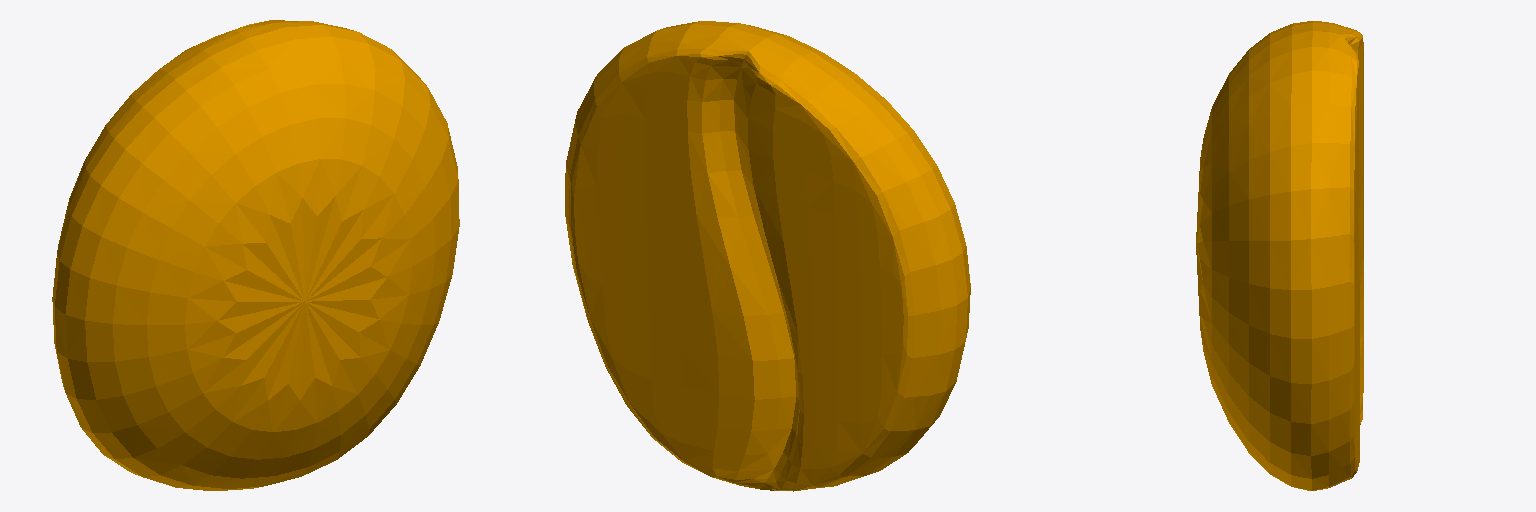
robot.urdf — bean:
<robot name="bean">
    <link name="base1">
        <visual>
            <origin rpy="0 0 0" xyz="0 0 0"/>
            <geometry>
                <mesh filename="bean.dae" scale="50.0 50.0 50.0"/>
            </geometry>
        </visual>
        <collision>
            <origin rpy="0 0 0" xyz="0 0 0"/>
            <geometry>
                <sphere radius="0.05"/>
            </geometry>
        </collision>
        <!-- <collision>
            <origin rpy="0 0 0" xyz="0 -0.015 0"/>
            <geometry>
                <box size="0.12 0.03 0.12"/>
            </geometry>
        </collision> -->
    </link>
</robot>

--- What the picture shows (computed from the rendered views, not written in the file) ---
The picture shows the robot from 3 angles, left to right: view 1: azimuth 30°, elevation 25°; view 2: azimuth 150°, elevation 25°; view 3: azimuth 270°, elevation 25°; orthographic projection.
Robot: bean — 1 links, 0 joints (none); root link base1; default pose: all joints at 0.
Links seen in each view (by area): view 1: base1; view 2: base1; view 3: base1.
Boxes of the visible links, <box> form: base1: <box>52,20,459,490</box>; base1: <box>565,21,970,491</box>; base1: <box>1196,21,1363,490</box>.
Size in the robot's own frame: 0.1232 by 0.0468 by 0.134 metres.
1 mesh visuals loaded from 1 distinct referenced files (1 Collada DAE).
